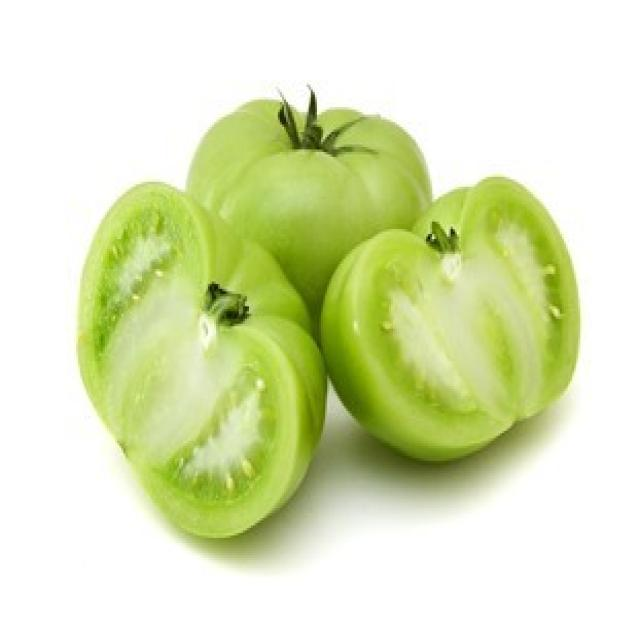yesil: (60, 91, 607, 546)
